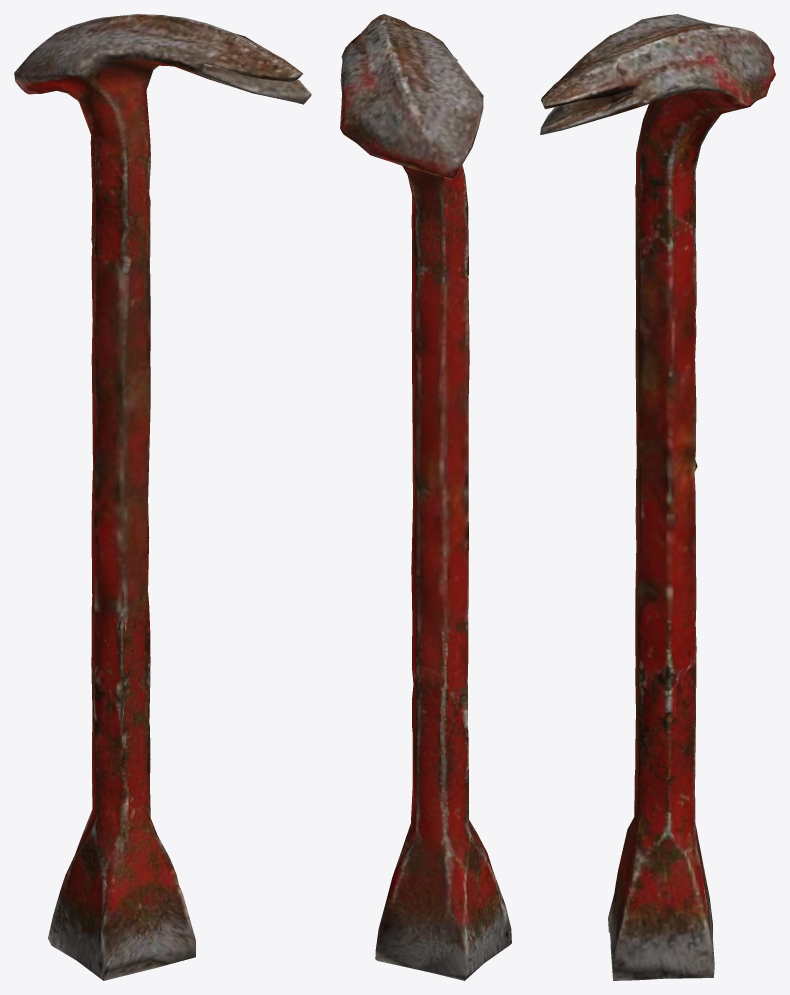
Rendered from melee_crowbar_lod1.glb.
3 renders of one model, left to right at view 1: azimuth 30°, elevation 25°; view 2: azimuth 150°, elevation 25°; view 3: azimuth 270°, elevation 25°, orthographic. The views are drawn at different scales.
Visible parts, largest first — view 1: melee_crowbar; view 2: melee_crowbar; view 3: melee_crowbar.
Part boxes in pixels (x1,y1,x2,y2): melee_crowbar: [14, 14, 311, 980]; melee_crowbar: [340, 14, 511, 980]; melee_crowbar: [540, 14, 775, 980].
Bounding box in the file's own units: 0.1311 × 0.5997 × 0.1357.
1 material, 1 textured.
